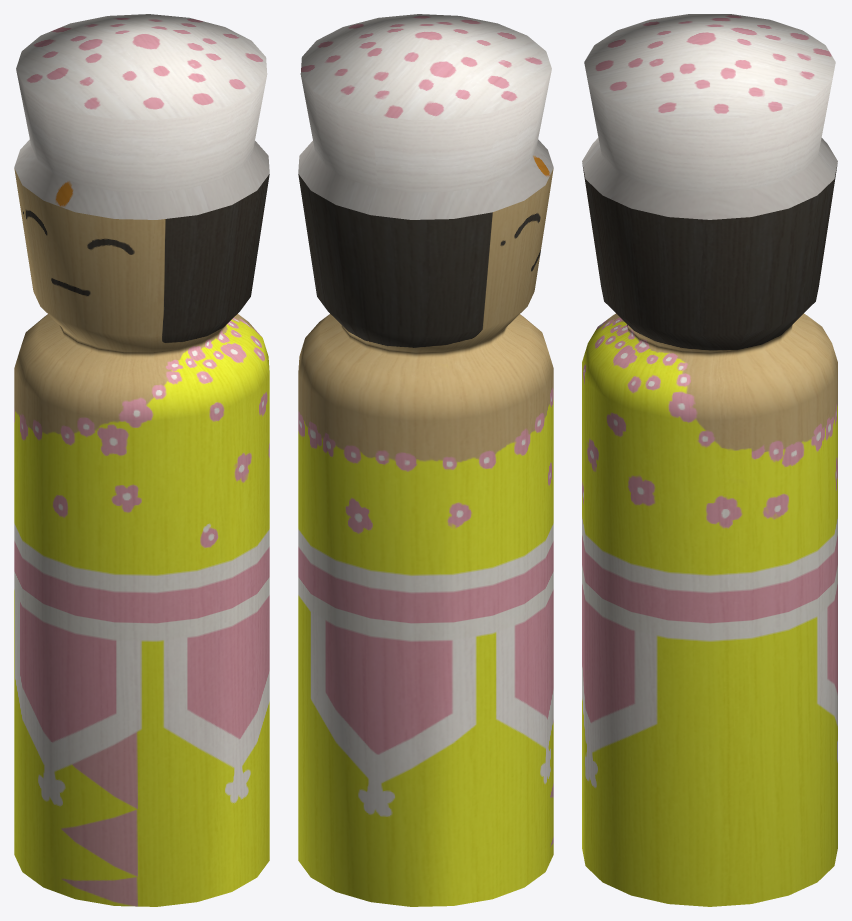
The model's file is Twin1.fbx.
3 renders of one model, left to right at view 1: azimuth 30°, elevation 25°; view 2: azimuth 150°, elevation 25°; view 3: azimuth 270°, elevation 25°, orthographic.
Visible parts, largest first — view 1: pCylinder1; view 2: pCylinder1; view 3: pCylinder1.
Part boxes in pixels (box(x1,y1,x2,y2)): pCylinder1: box(14, 14, 269, 906); pCylinder1: box(298, 14, 553, 906); pCylinder1: box(582, 14, 837, 906).
Size of the model in its own units: 0.5218 by 1.85 by 0.5236.
Materials: 1 (1 with a texture image).
